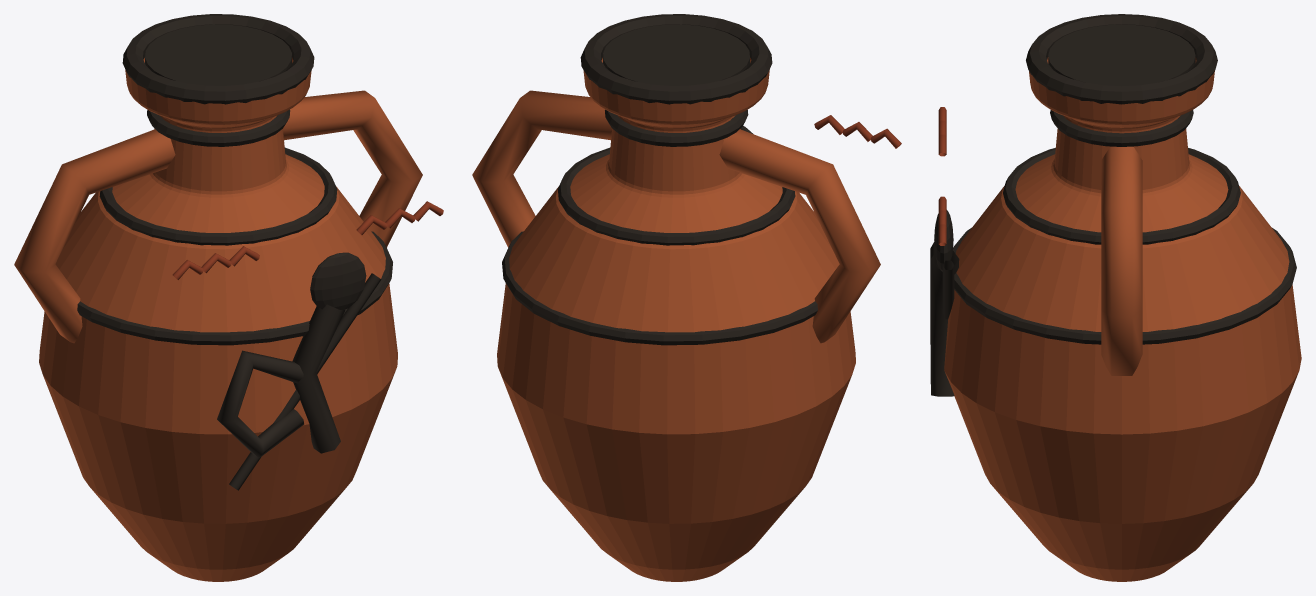
Rendered from amphora_destructible_intact.glb.
3 views of the same model, side by side, from view 1: azimuth 30°, elevation 25°; view 2: azimuth 150°, elevation 25°; view 3: azimuth 270°, elevation 25° (orthographic).
Parts seen in each view (by area): view 1: AtticAmphoraIntactShell, AmphoraHandle, AmphoraHandle.001, AmphoraOpenMouth, AmphoraRolledRim, AmphoraPaintBand.002, AmphoraWarriorBody, AmphoraWarriorShield, AmphoraPaintBand.001, AmphoraWarriorHelmet, AmphoraPaintBand.003, AmphoraWarriorSpear; view 2: AtticAmphoraIntactShell, AmphoraHandle, AmphoraHandle.001, AmphoraOpenMouth, AmphoraRolledRim, AmphoraPaintBand.001, AmphoraPaintBand.002, AmphoraPaintBand.003; view 3: AtticAmphoraIntactShell, AmphoraHandle.001, AmphoraOpenMouth, AmphoraRolledRim, AmphoraPaintBand.001, AmphoraPaintBand.002, AmphoraWarriorBody, AmphoraPaintBand.003, AmphoraWarriorHelmet, AmphoraWarriorSpear.
Boxes of the visible parts, box(x1,y1,x2,y2) form: AtticAmphoraIntactShell: box(39, 57, 397, 581); AmphoraHandle: box(14, 129, 175, 343); AmphoraHandle.001: box(283, 90, 422, 247); AmphoraOpenMouth: box(145, 24, 291, 85); AmphoraRolledRim: box(122, 14, 314, 104); AmphoraPaintBand.002: box(99, 147, 337, 245); AmphoraWarriorBody: box(292, 304, 345, 453); AmphoraWarriorShield: box(217, 350, 303, 458); AmphoraPaintBand.001: box(77, 231, 392, 345); AmphoraWarriorHelmet: box(310, 252, 366, 310); AmphoraPaintBand.003: box(147, 109, 290, 146); AmphoraWarriorSpear: box(229, 273, 381, 490); AtticAmphoraIntactShell: box(497, 57, 855, 581); AmphoraHandle: box(719, 129, 880, 343); AmphoraHandle.001: box(472, 90, 611, 247); AmphoraOpenMouth: box(603, 24, 749, 85); AmphoraRolledRim: box(580, 14, 772, 104); AmphoraPaintBand.001: box(502, 231, 817, 345); AmphoraPaintBand.002: box(557, 147, 795, 245); AmphoraPaintBand.003: box(605, 109, 748, 146); AtticAmphoraIntactShell: box(944, 57, 1301, 581); AmphoraHandle.001: box(1101, 146, 1142, 375); AmphoraOpenMouth: box(1048, 24, 1195, 86); AmphoraRolledRim: box(1026, 14, 1217, 104); AmphoraPaintBand.001: box(953, 227, 1296, 344); AmphoraPaintBand.002: box(1003, 148, 1240, 244); AmphoraWarriorBody: box(930, 251, 959, 396); AmphoraPaintBand.003: box(1050, 110, 1193, 146); AmphoraWarriorHelmet: box(934, 210, 953, 271); AmphoraWarriorSpear: box(942, 260, 954, 319).
Bounding box in the file's own units: 0.7806 × 0.9555 × 0.63.
